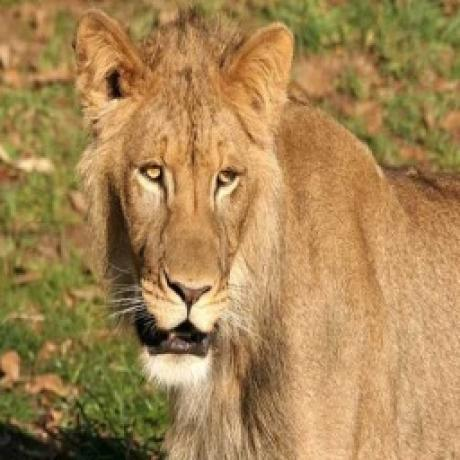Lion: (72, 3, 460, 460)
